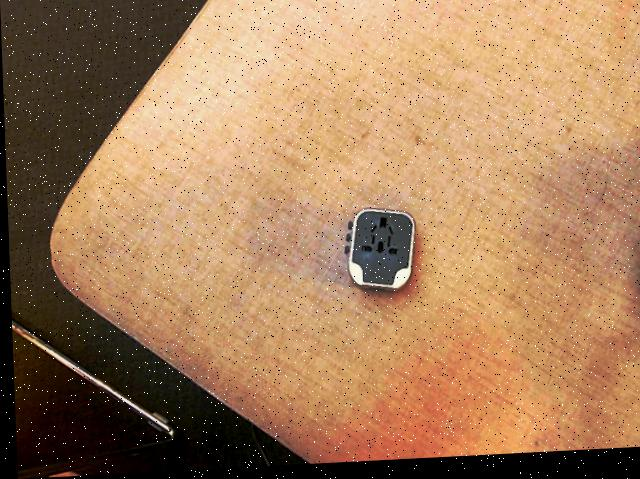adapter: (340, 210, 414, 297)
